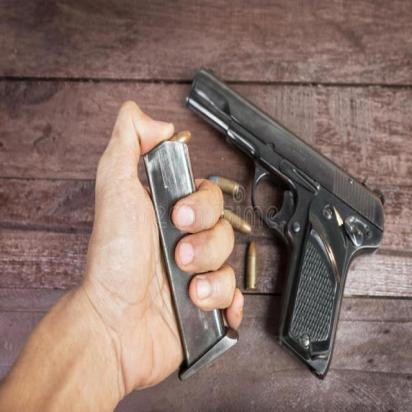Gun: (180, 55, 390, 385)
